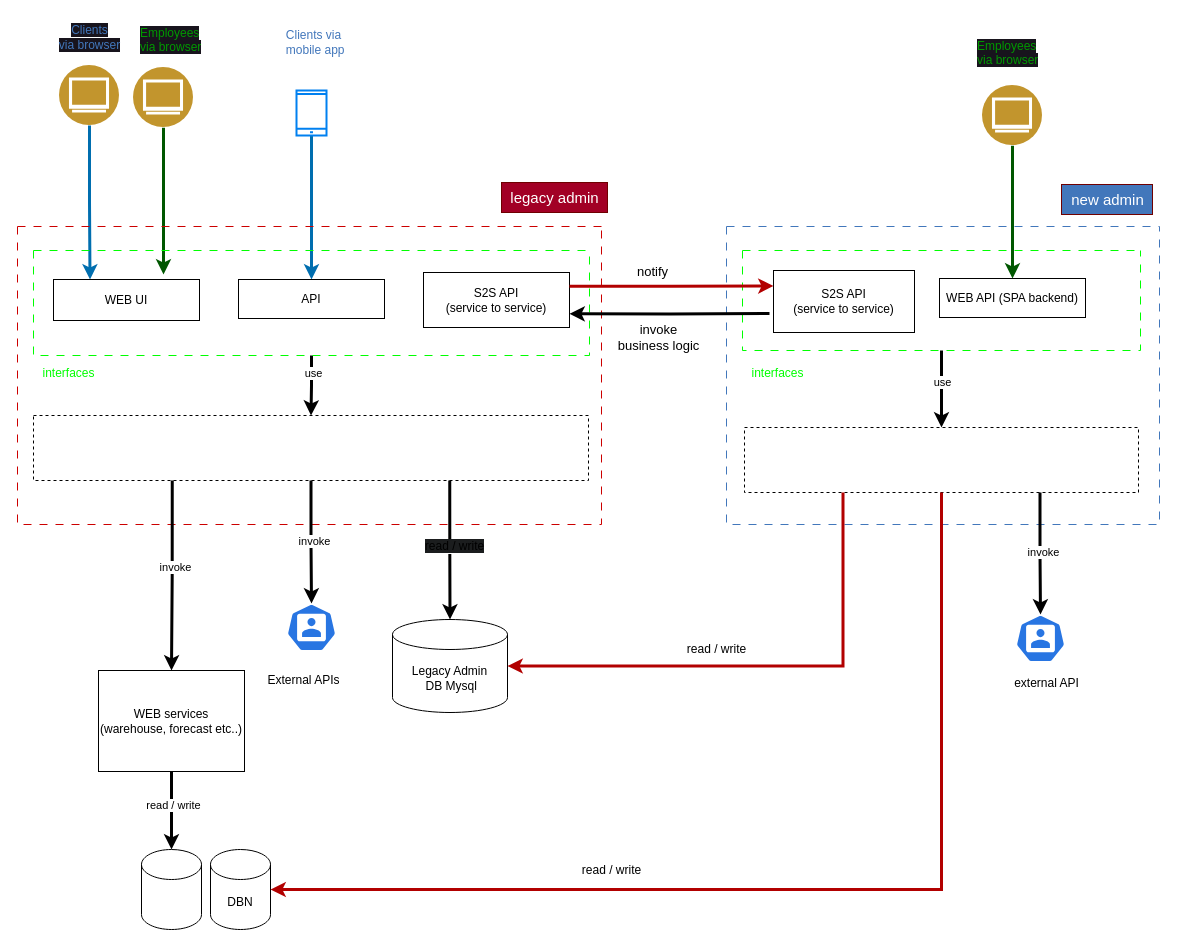
This 1177x947 diagram has some shape labels left out. The centre of each missing label's shape, as x and y in pixels:
Business logic modules (mappers, services etc.): point (941, 459)
Business logic modules (Orders, Rules, Requests ..): point (310, 447)
DB1: point (171, 889)
